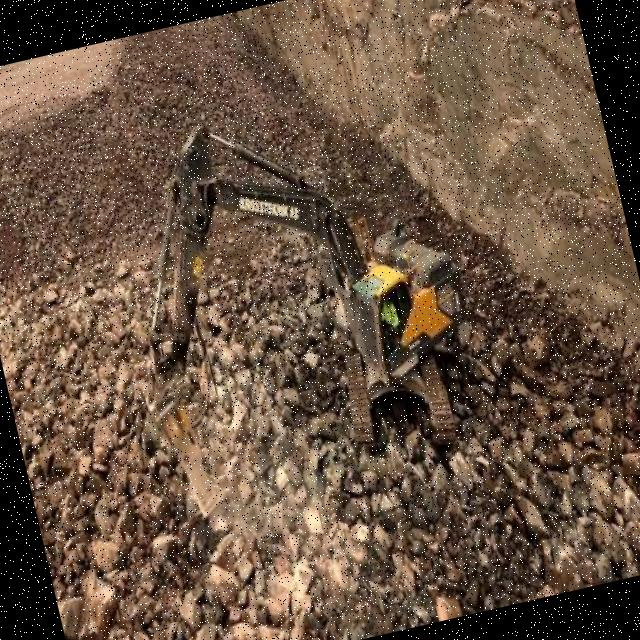Excavator: (90, 69, 502, 538)
